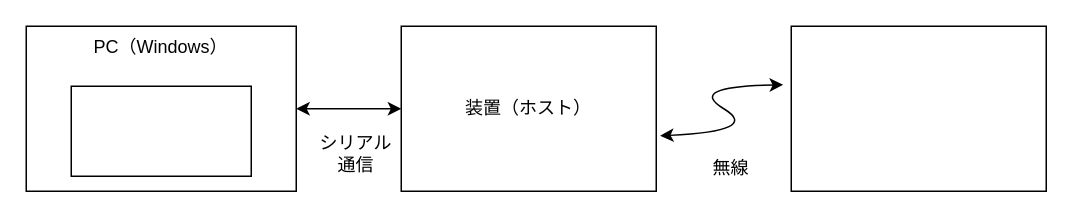
Image size: 1073x218. Some labels were removed from this diagram. The centre of each missing label's shape, as x and y in pixels:
アプリケーション ※開発対象: the point at 160,130
装置（ターゲット） 温度、無線強度: the point at 918,108
